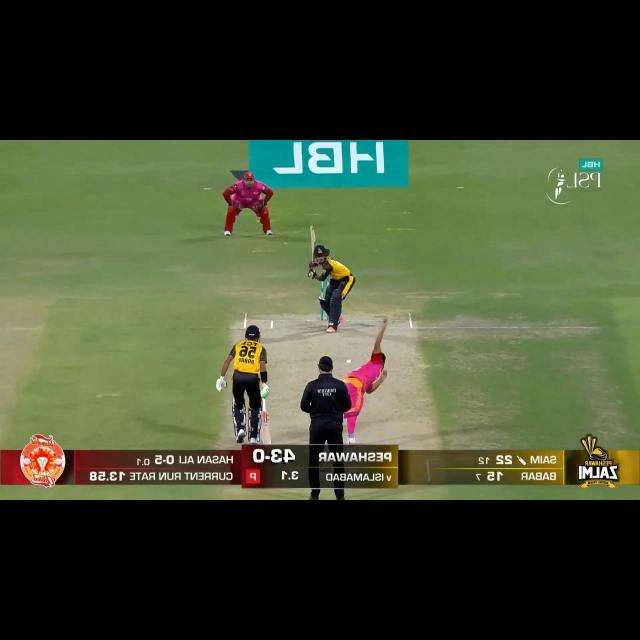bat: (306, 224, 318, 258), (262, 410, 272, 447)
toe: (307, 224, 317, 234), (262, 437, 272, 444)
